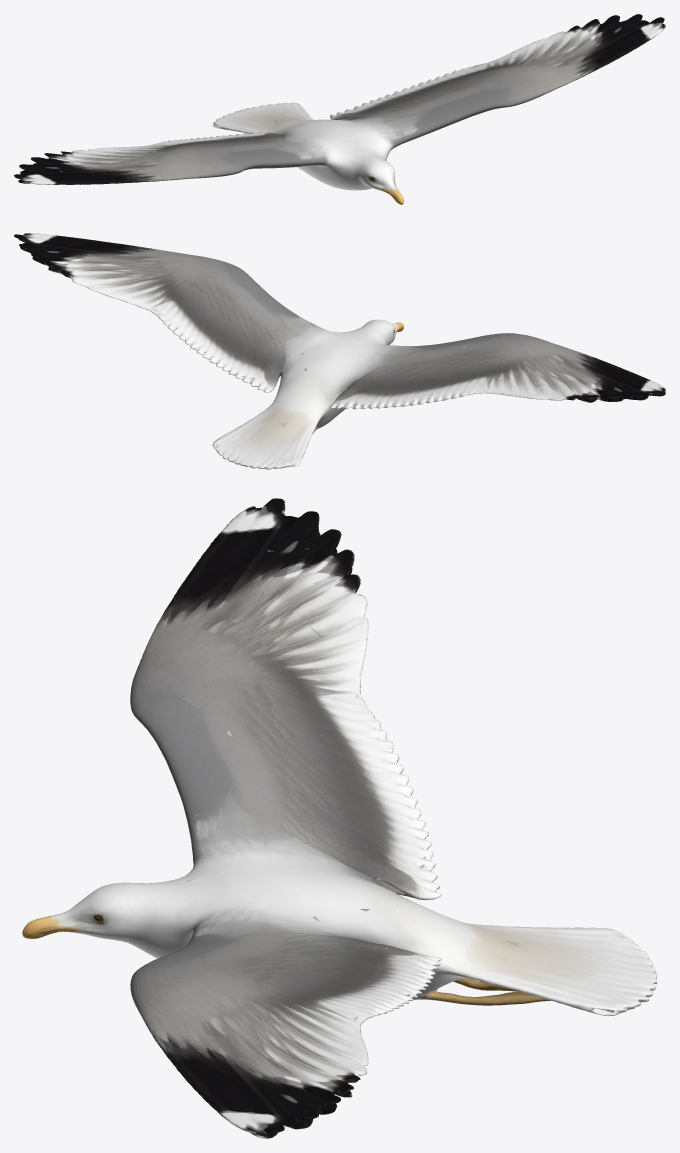
The model's file is seagul2.glb.
3 renders of one model, top to bottom at view 1: azimuth 30°, elevation 25°; view 2: azimuth 150°, elevation 25°; view 3: azimuth 270°, elevation 25°, orthographic. The views are drawn at different scales.
Size of the model in its own units: 1.9 by 0.2634 by 0.8043.
1 material, 1 textured.
